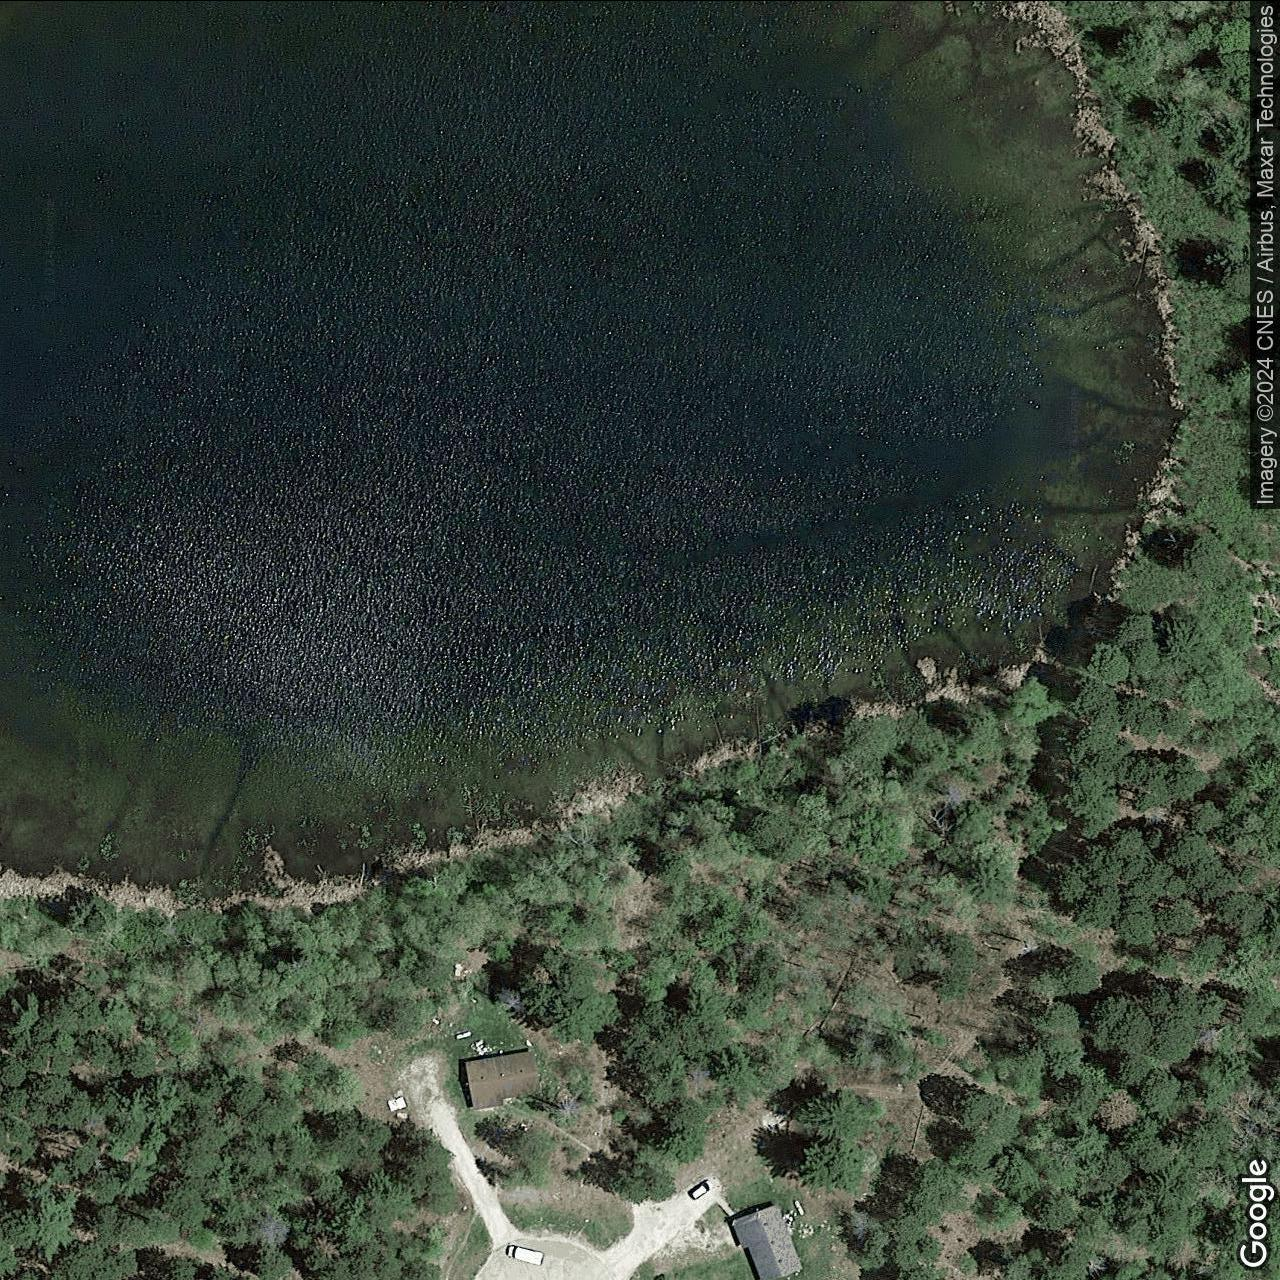House: (731, 1201, 804, 1280), (464, 1049, 542, 1110)
Propane: (791, 1197, 806, 1218), (452, 1029, 474, 1040)
